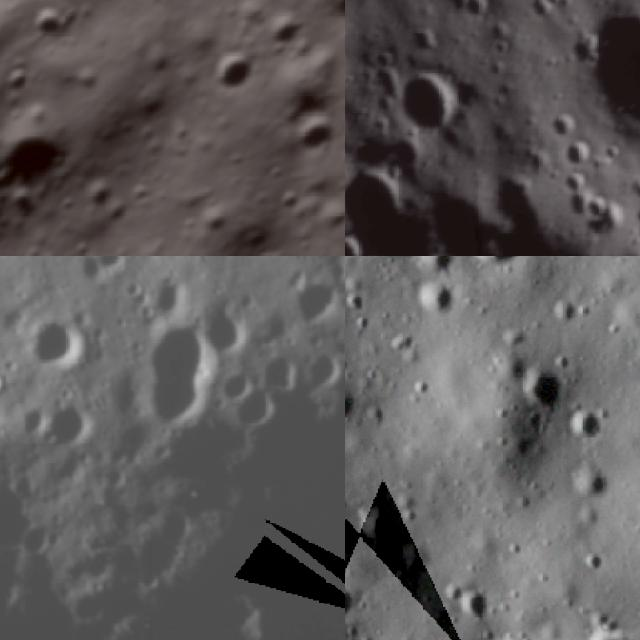crater: (345, 167, 640, 256), (0, 93, 92, 204), (132, 320, 220, 424), (583, 0, 640, 149), (390, 66, 468, 146), (510, 351, 581, 422), (552, 441, 624, 508), (279, 265, 345, 338), (279, 97, 345, 168), (17, 312, 97, 369), (199, 36, 266, 103), (552, 386, 618, 452), (255, 0, 320, 62), (346, 489, 408, 552), (199, 289, 260, 352), (408, 270, 471, 330), (43, 390, 99, 449), (21, 0, 84, 51), (449, 578, 506, 634), (572, 190, 628, 243), (538, 284, 590, 336), (458, 616, 561, 640), (563, 598, 618, 640), (452, 256, 541, 279), (493, 311, 537, 353), (553, 137, 598, 175), (406, 21, 448, 61), (431, 572, 472, 612), (405, 256, 467, 282), (453, 0, 494, 39), (574, 540, 612, 578), (345, 367, 369, 427), (345, 570, 366, 632), (345, 281, 375, 321), (544, 110, 576, 144), (318, 0, 345, 35), (345, 231, 371, 256), (335, 114, 345, 152)
